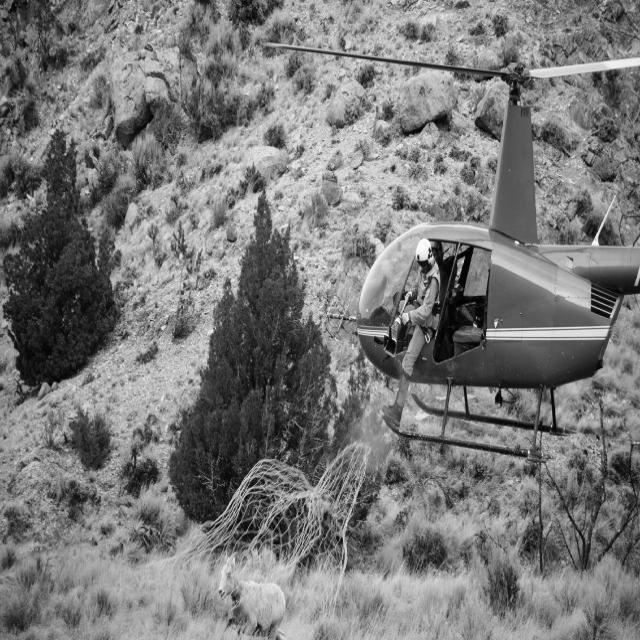helicopter: (263, 44, 640, 459)
